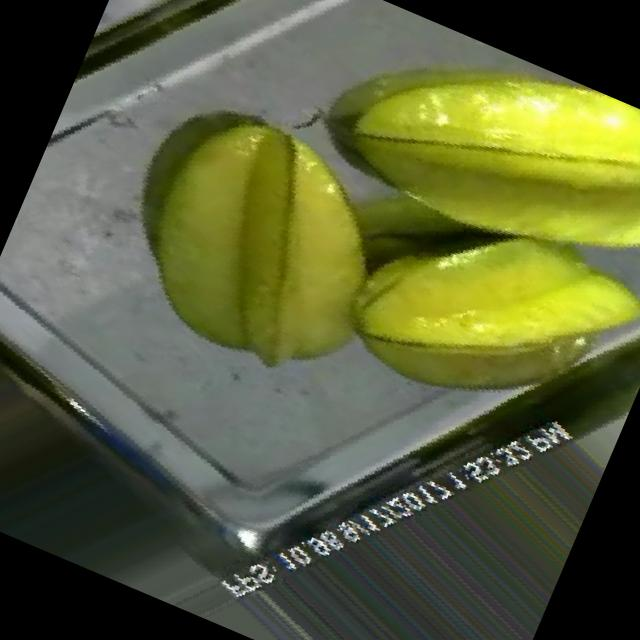fruit: (39, 15, 498, 473), (252, 0, 640, 404)
